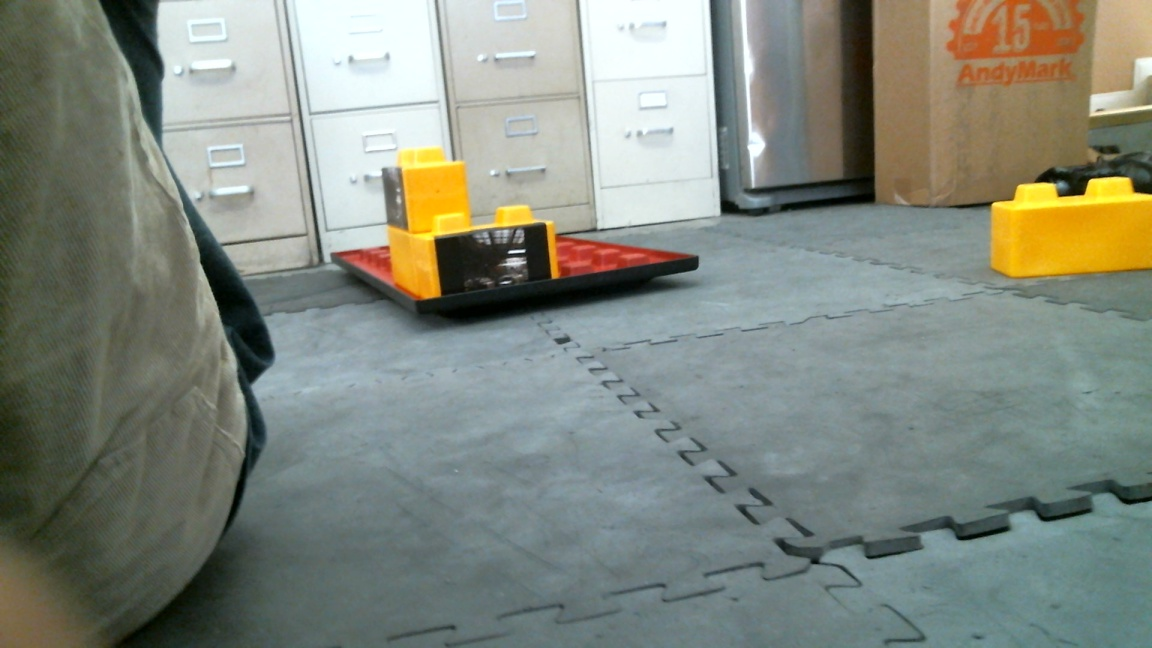skystone: (416, 207, 565, 292), (382, 148, 460, 220)
stone: (983, 174, 1152, 269), (383, 228, 432, 293)
